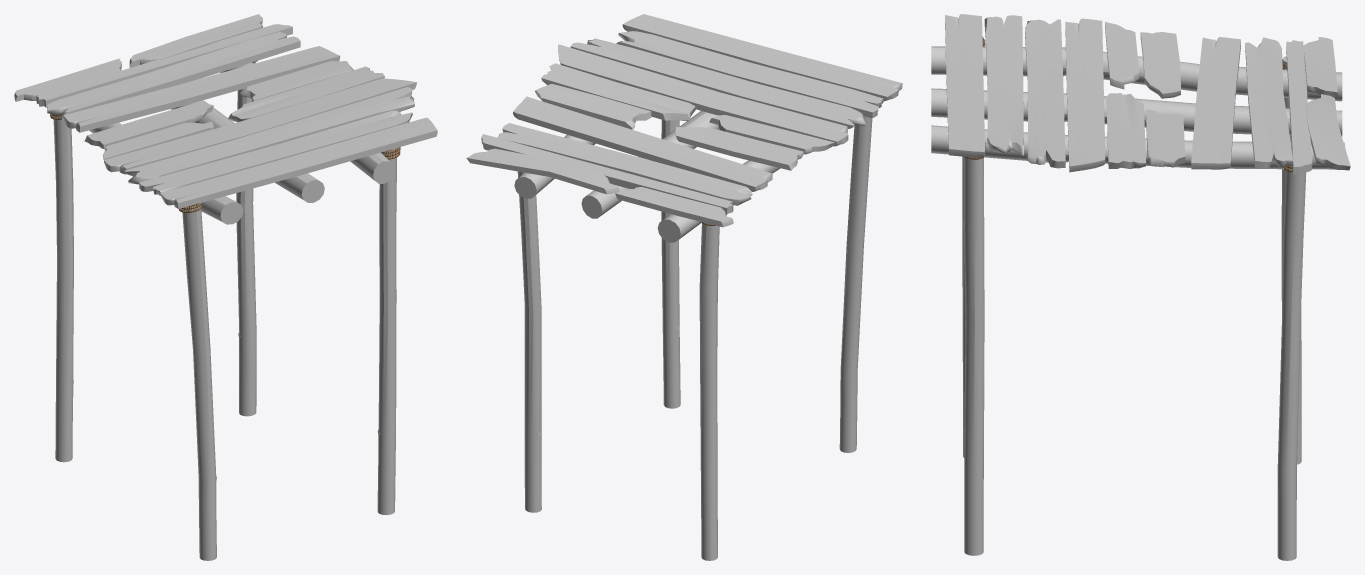
The model's file is SM_Scaffold_structure_4.fbx.
3 renders of one model, left to right at view 1: azimuth 30°, elevation 25°; view 2: azimuth 150°, elevation 25°; view 3: azimuth 270°, elevation 25°, orthographic. The views are drawn at different scales.
Parts seen in each view (by area): view 1: SM_Scaffold_structure_4; view 2: SM_Scaffold_structure_4; view 3: SM_Scaffold_structure_4.
Boxes of the visible parts, bbox=[...] form: SM_Scaffold_structure_4: bbox=[14, 14, 437, 560]; SM_Scaffold_structure_4: bbox=[466, 14, 902, 560]; SM_Scaffold_structure_4: bbox=[931, 14, 1350, 560].
Bounding box in the file's own units: 278 × 342 × 300.
